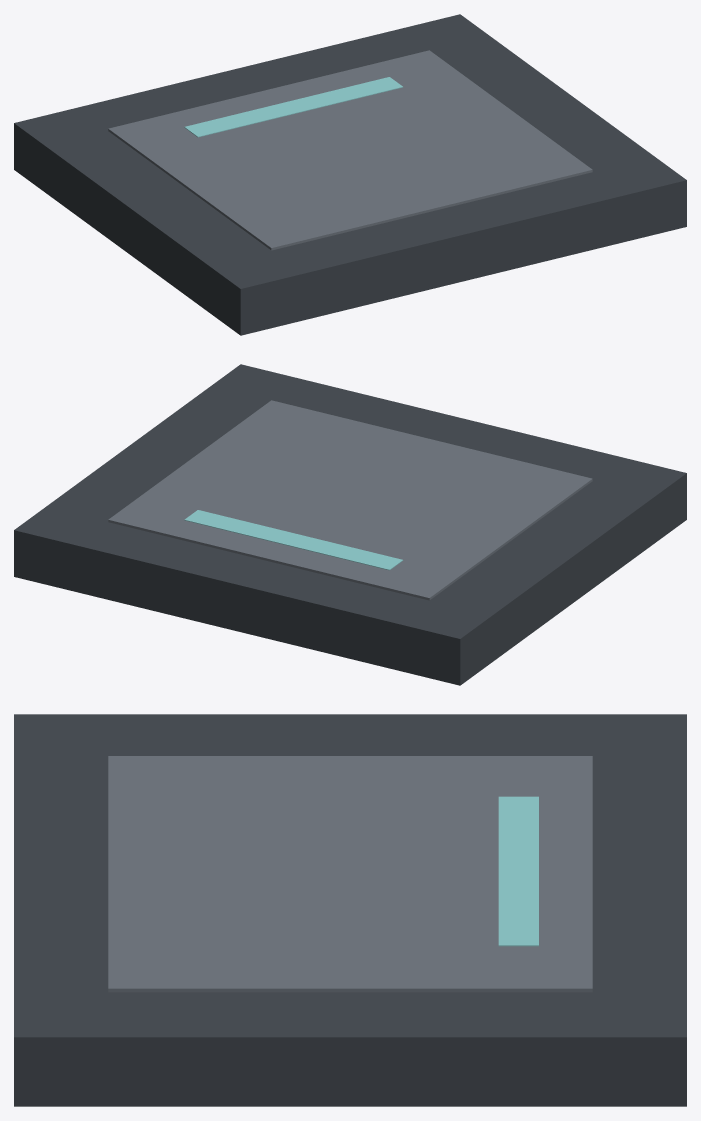
3 renders of one model, top to bottom at view 1: azimuth 30°, elevation 25°; view 2: azimuth 150°, elevation 25°; view 3: azimuth 270°, elevation 25°, orthographic. The views are drawn at different scales.
Visible parts, largest first — view 1: 000_Black_Epoxy__PSMAT__Black_Epoxy, 001_Silicon_Die__PSMAT__Silicon_Die, 002_Silkscreen_Cyan__PSMAT__Silkscreen_Cyan; view 2: 000_Black_Epoxy__PSMAT__Black_Epoxy, 001_Silicon_Die__PSMAT__Silicon_Die, 002_Silkscreen_Cyan__PSMAT__Silkscreen_Cyan; view 3: 000_Black_Epoxy__PSMAT__Black_Epoxy, 001_Silicon_Die__PSMAT__Silicon_Die, 002_Silkscreen_Cyan__PSMAT__Silkscreen_Cyan.
Part boxes in pixels (x1,y1,x2,y2): 000_Black_Epoxy__PSMAT__Black_Epoxy: [14, 14, 686, 335]; 001_Silicon_Die__PSMAT__Silicon_Die: [108, 50, 592, 250]; 002_Silkscreen_Cyan__PSMAT__Silkscreen_Cyan: [184, 77, 402, 137]; 000_Black_Epoxy__PSMAT__Black_Epoxy: [14, 364, 686, 685]; 001_Silicon_Die__PSMAT__Silicon_Die: [108, 400, 592, 600]; 002_Silkscreen_Cyan__PSMAT__Silkscreen_Cyan: [184, 510, 403, 570]; 000_Black_Epoxy__PSMAT__Black_Epoxy: [14, 714, 686, 1106]; 001_Silicon_Die__PSMAT__Silicon_Die: [108, 756, 592, 992]; 002_Silkscreen_Cyan__PSMAT__Silkscreen_Cyan: [498, 796, 538, 946].
Size of the model in its own units: 0.025 by 0.00325 by 0.022.
